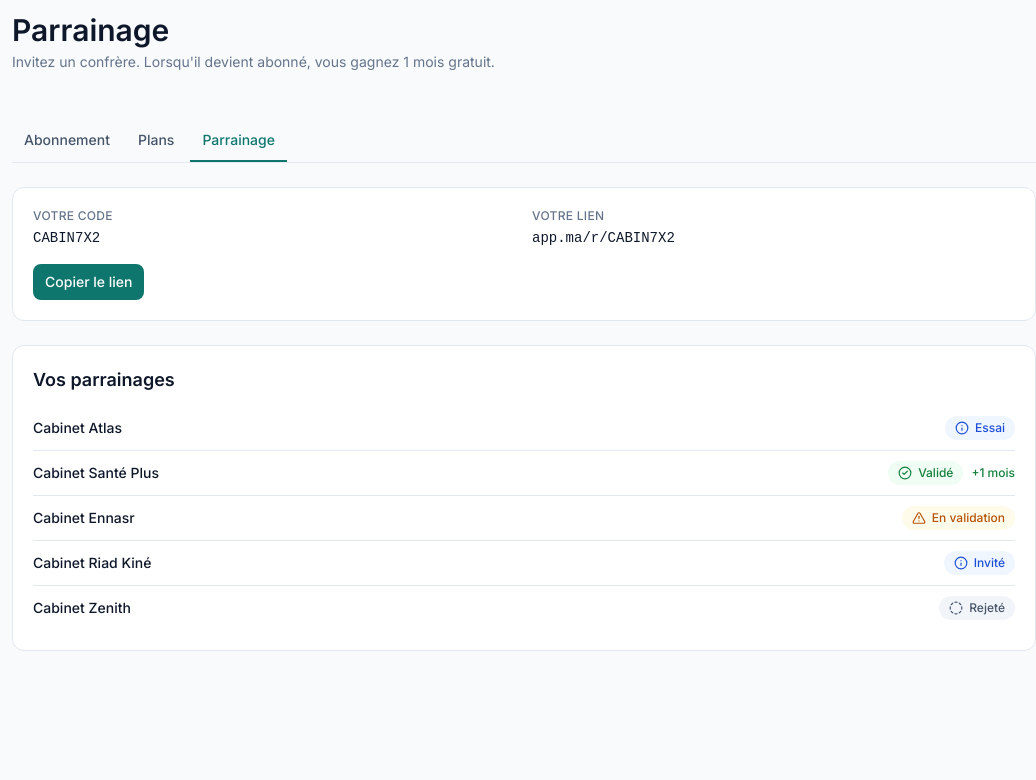
Scenario: ReferralPage › Copier le lien writes the real link to the clipboard and shows a confirmation toast
Click the button "Copier le lien": (89, 282) [33, 264, 144, 300]
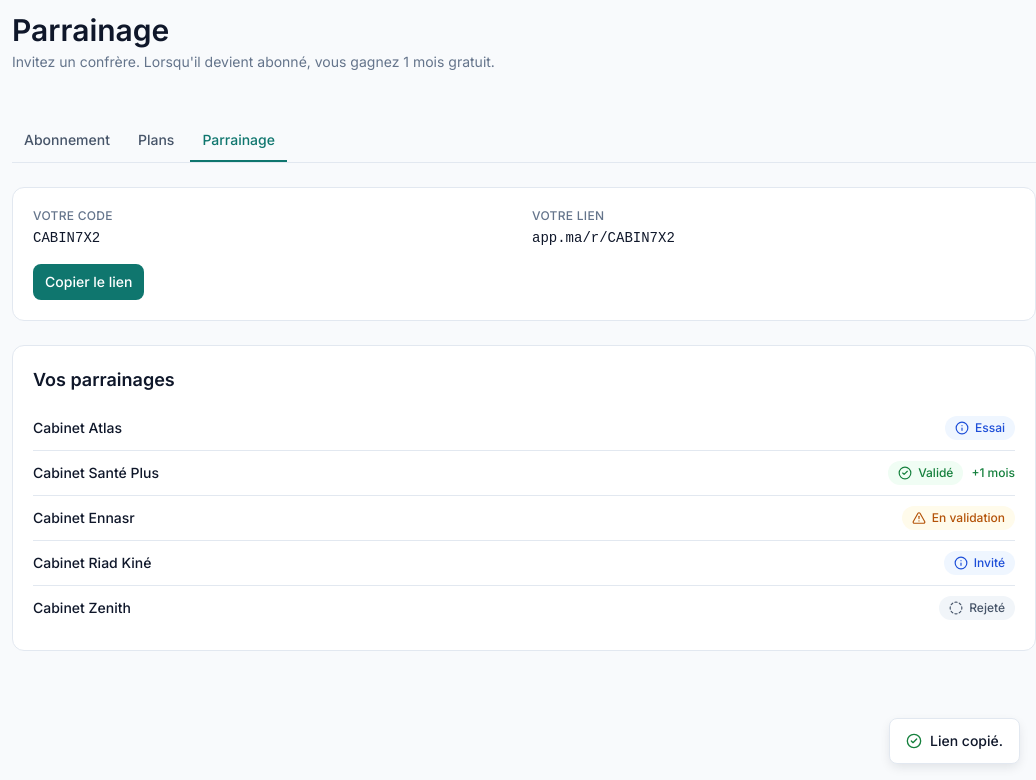
Expected: the text "Lien copié." is shown, [889, 718, 1020, 764]
